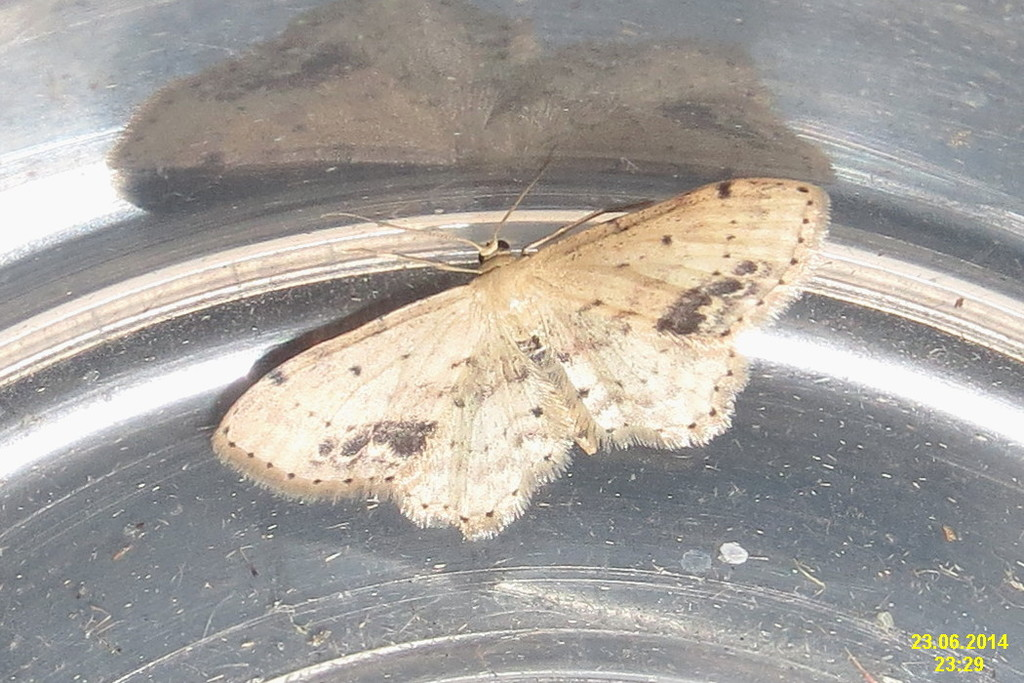Butterfly: (159, 119, 836, 549)
